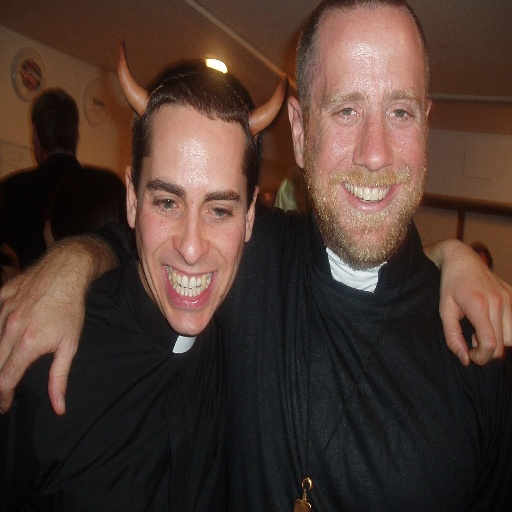hand: (0, 240, 95, 415), (435, 235, 510, 368)
